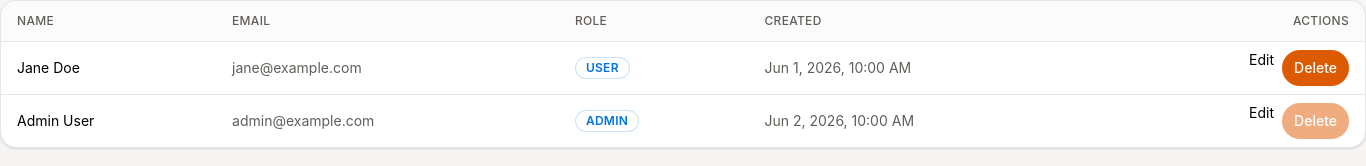
Test: UsersTable › deletes a user after inline confirmation
The image size is (1366, 166).
Expected: the text "Jane Doe" is shown, [1,41,216,94]
Click the button "Delete" in the row of "Jane Doe" at (1316, 68), box [1282,50,1349,86]
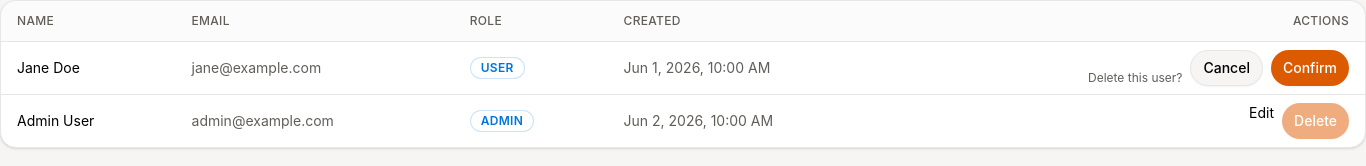
Now the text "Delete this user?" is shown, box [1088,70,1182,86]
Click the button "Confirm" at (1310, 68), box [1271,50,1349,86]
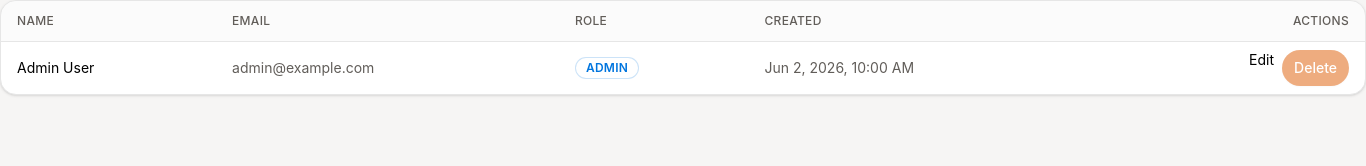
Now the text "jane@example.com" is gone
